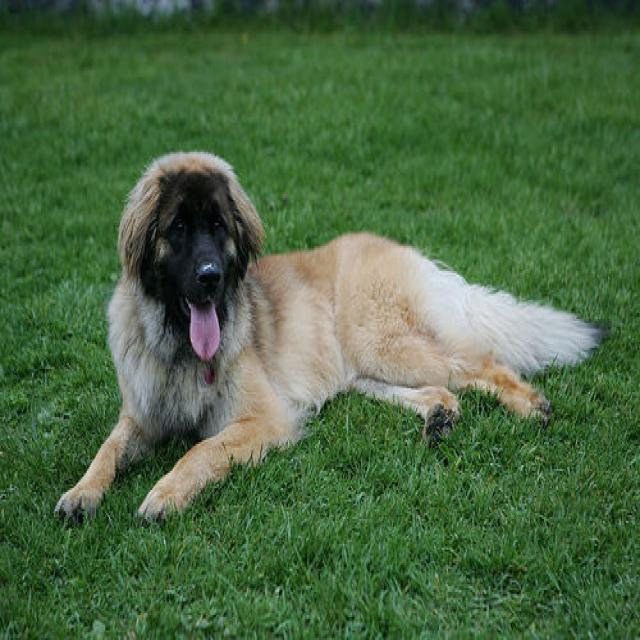dog-leonberger: (50, 144, 612, 536)
